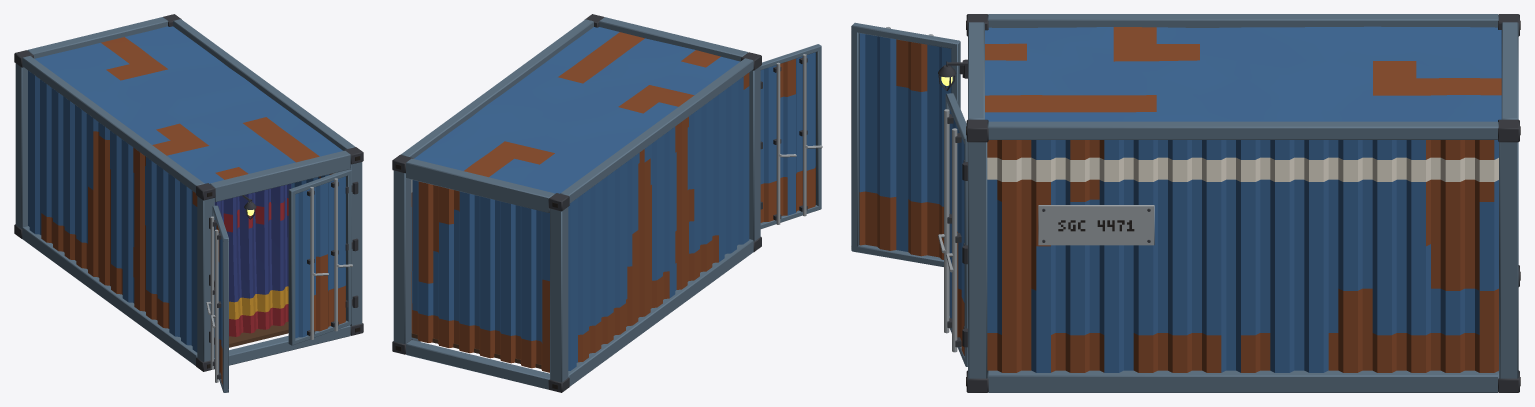
The model's file is deco_salvage_container_open.fbx.
The picture shows the model from 3 angles, left to right: view 1: azimuth 30°, elevation 25°; view 2: azimuth 150°, elevation 25°; view 3: azimuth 270°, elevation 25°; orthographic projection. The views are drawn at different scales.
Visible parts, largest first — view 1: Salvage_Container_Open_Body, Salvage_Container_Open_DoorR, Salvage_Container_Open_Curtain, Salvage_Container_Open_DoorL; view 2: Salvage_Container_Open_Body, Salvage_Container_Open_DoorL; view 3: Salvage_Container_Open_Body, Salvage_Container_Open_DoorL, Salvage_Container_Open_DoorR.
Part boxes in pixels (box(x1,y1,x2,y2)): Salvage_Container_Open_Body: box(14, 14, 363, 371); Salvage_Container_Open_DoorR: box(288, 169, 358, 345); Salvage_Container_Open_Curtain: box(214, 184, 291, 336); Salvage_Container_Open_DoorL: box(206, 205, 228, 392); Salvage_Container_Open_Body: box(392, 14, 761, 392); Salvage_Container_Open_DoorL: box(760, 44, 822, 228); Salvage_Container_Open_Body: box(938, 14, 1520, 392); Salvage_Container_Open_DoorL: box(851, 22, 967, 266); Salvage_Container_Open_DoorR: box(938, 93, 967, 366).
Size of the model in its own units: 255 by 240 by 547.
